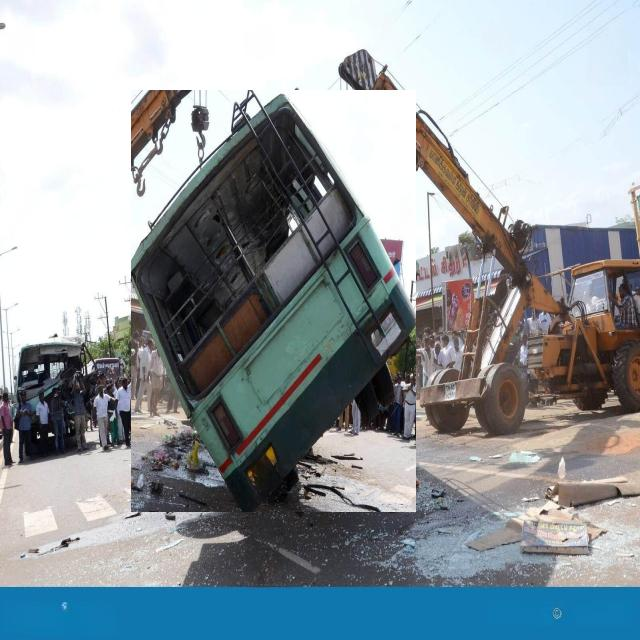bus: (131, 91, 416, 512)
truck: (341, 52, 640, 435)
